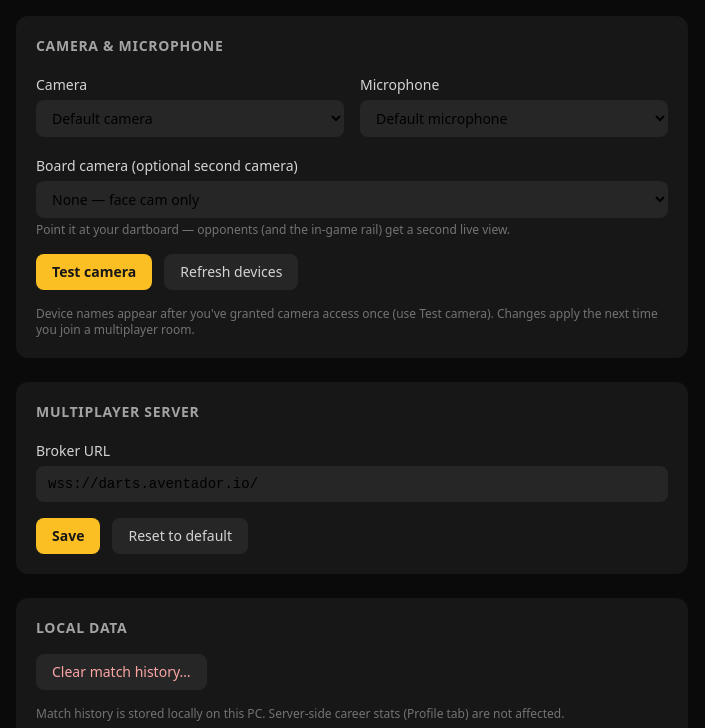
Test case: Settings devices › shows an error when the camera test fails
Click the button "Test camera".
click(94, 272)  # box [36,254,152,290]
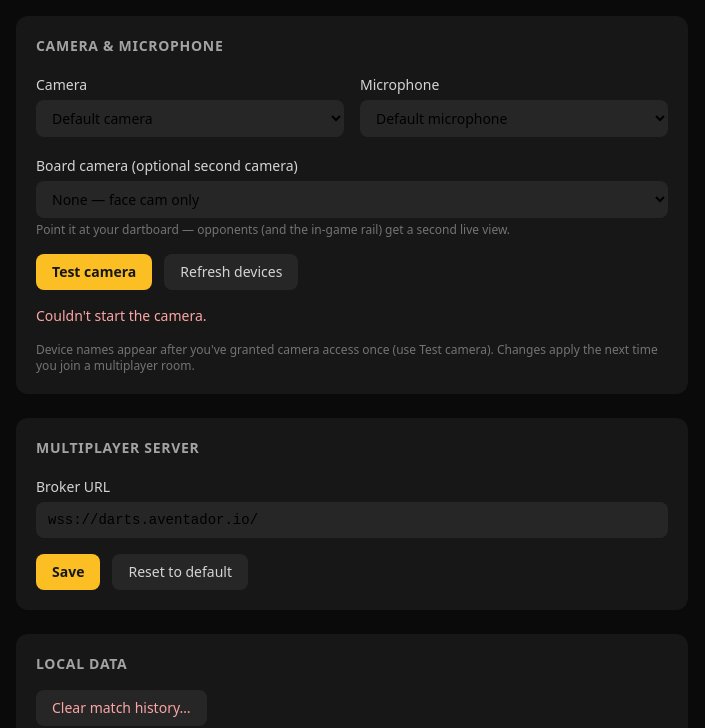
Check: the message shows "Couldn't start the camera", box [36,306,207,325]
